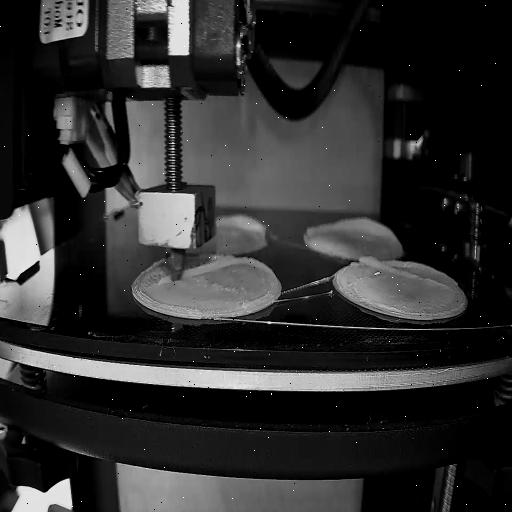over_extrusion: (358, 252, 450, 290), (306, 214, 400, 248), (214, 212, 268, 242), (183, 255, 241, 280), (158, 276, 172, 286)
